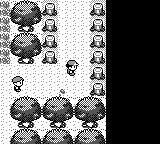captura: (0, 1, 10, 64)
main: (66, 60, 79, 75)
no-caminable: (106, 1, 159, 142), (10, 96, 106, 143), (10, 1, 41, 65), (90, 0, 106, 97), (42, 1, 58, 65)
npc: (12, 76, 24, 91)
